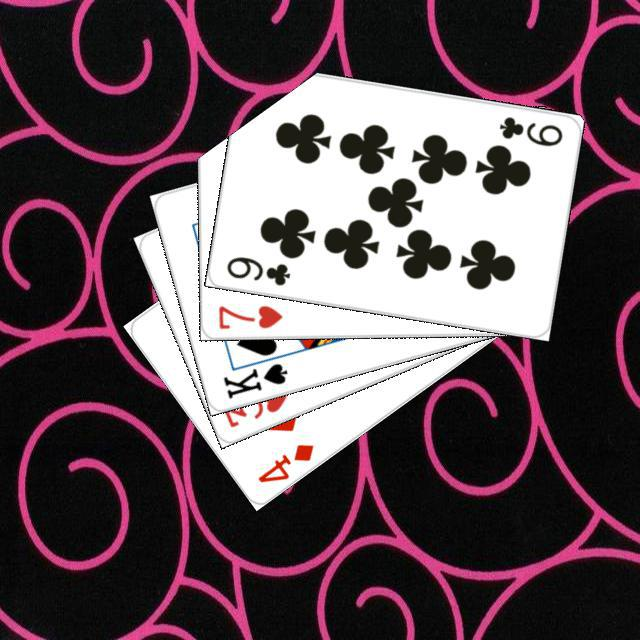3h: (218, 384, 289, 430)
4d: (253, 438, 316, 485)
7h: (214, 300, 284, 331)
9c: (221, 251, 292, 288), (494, 111, 565, 148)
Ks: (218, 358, 289, 400)
